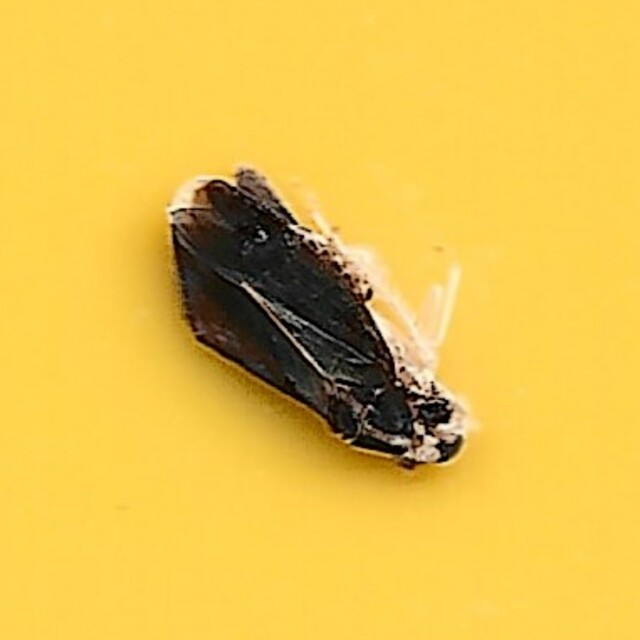Hemiptera: (168, 167, 472, 473)
